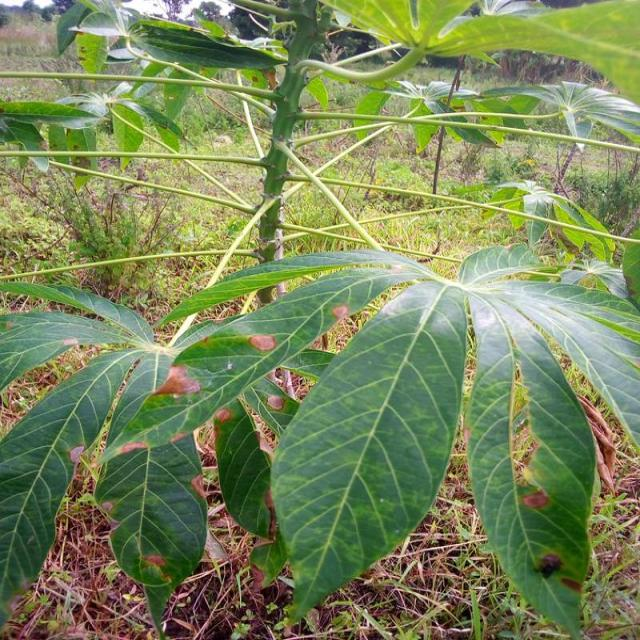cassava leaf: (268, 277, 467, 626)
